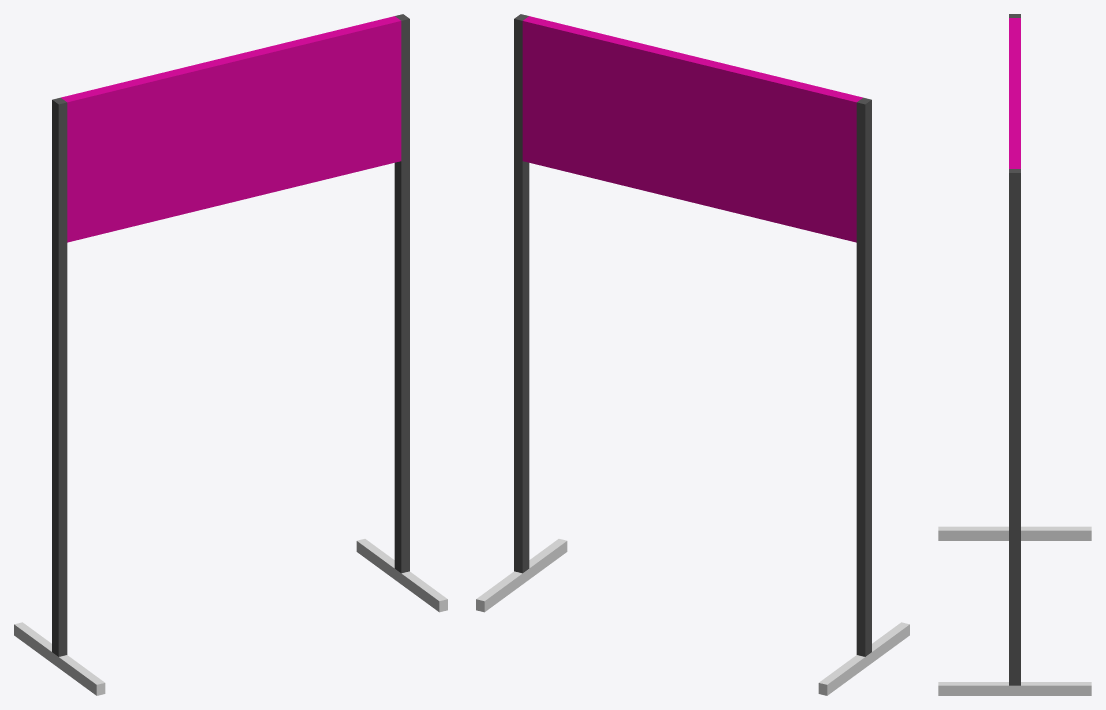
Rendered from flagGate.fbx.
3 views of the same model, side by side, from view 1: azimuth 30°, elevation 25°; view 2: azimuth 150°, elevation 25°; view 3: azimuth 270°, elevation 25° (orthographic). The views are drawn at different scales.
Visible parts, largest first — view 1: flagGate; view 2: flagGate; view 3: flagGate.
Part boxes in pixels (x1,y1,x2,y2): flagGate: (14, 14, 447, 695); flagGate: (476, 14, 909, 695); flagGate: (938, 14, 1091, 695).
Bounding box in the file's own units: 1.97 × 3.02 × 0.8028.
